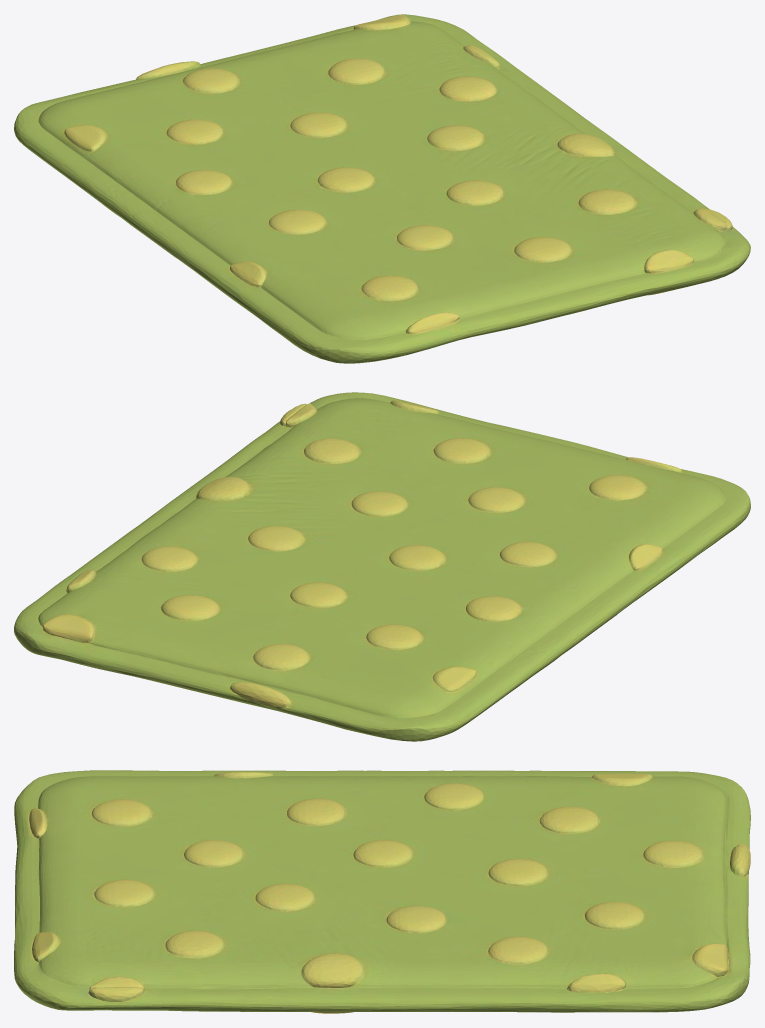
3 views of the same model, one above another, from view 1: azimuth 30°, elevation 25°; view 2: azimuth 150°, elevation 25°; view 3: azimuth 270°, elevation 25° (orthographic). The views are drawn at different scales.
Parts seen in each view (by area): view 1: tripo_node_fd19d284-6b1b-44e4-9c0d-0f5bf0d2589f; view 2: tripo_node_fd19d284-6b1b-44e4-9c0d-0f5bf0d2589f; view 3: tripo_node_fd19d284-6b1b-44e4-9c0d-0f5bf0d2589f.
Part boxes in pixels (x1,y1,x2,y2): tripo_node_fd19d284-6b1b-44e4-9c0d-0f5bf0d2589f: (14,14,750,363); tripo_node_fd19d284-6b1b-44e4-9c0d-0f5bf0d2589f: (14,392,750,741); tripo_node_fd19d284-6b1b-44e4-9c0d-0f5bf0d2589f: (14,770,750,1013).
Size of the model in its own units: 0.7338 by 0.0731 by 0.9801.
Materials: 1 (1 with a texture image).
